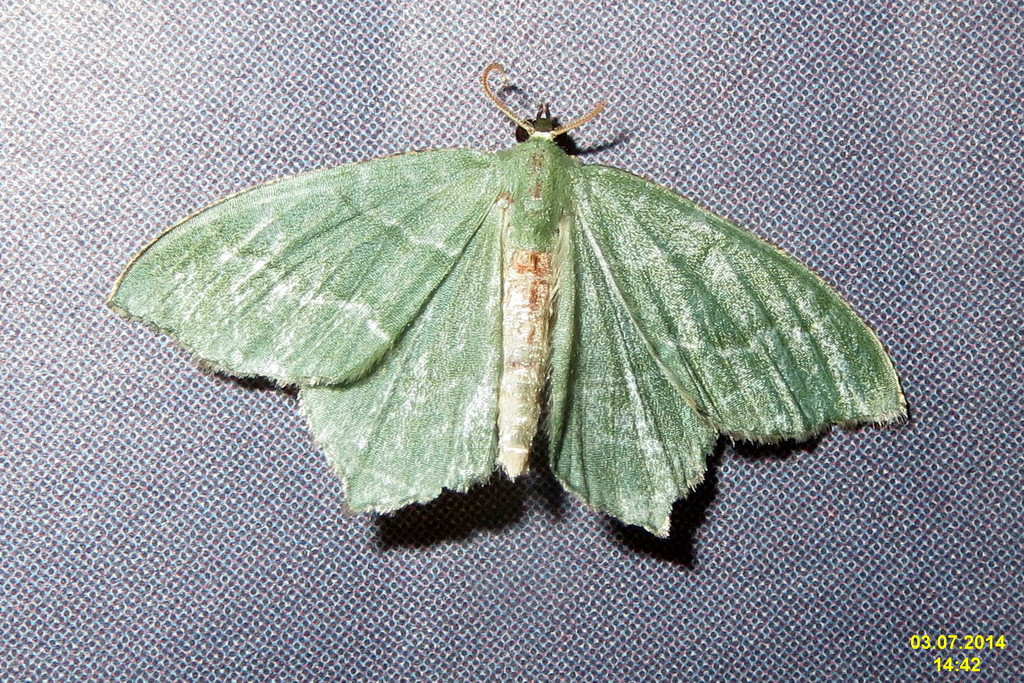Butterfly: (100, 90, 920, 535)
